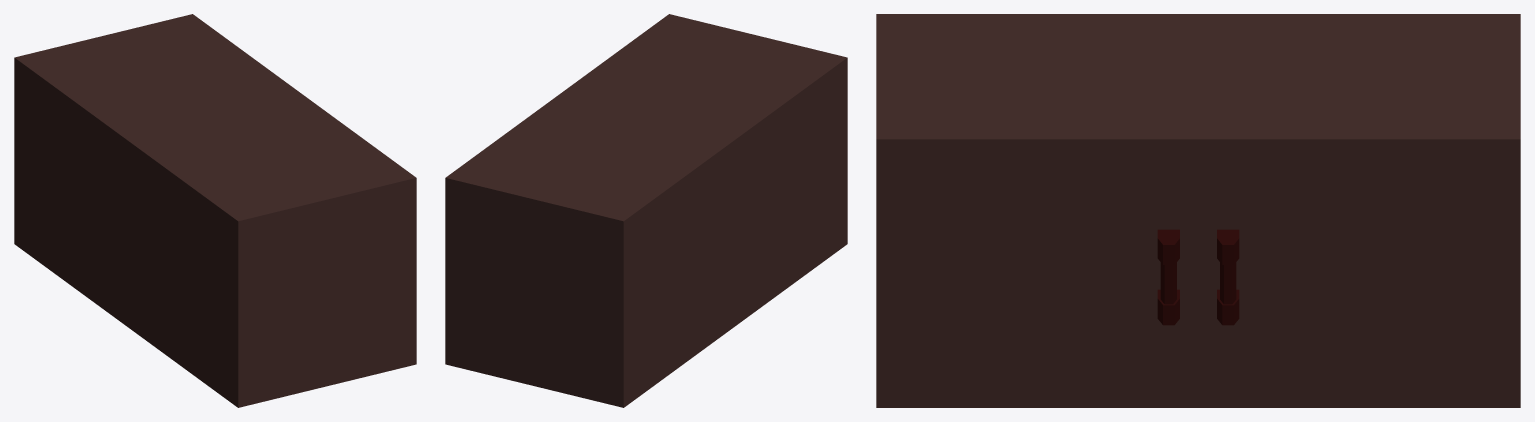
The model's file is KitchenCabinetDouble.fbx.
3 views of the same model, side by side, from view 1: azimuth 30°, elevation 25°; view 2: azimuth 150°, elevation 25°; view 3: azimuth 270°, elevation 25° (orthographic). The views are drawn at different scales.
Visible parts, largest first — view 1: KitchenCabinetDouble; view 2: KitchenCabinetDouble; view 3: KitchenCabinetDouble, Doors.001, Doors.002.
Part boxes in pixels (left/top/right/bottom): KitchenCabinetDouble: left=14, top=14, right=416, bottom=407; KitchenCabinetDouble: left=445, top=14, right=847, bottom=407; KitchenCabinetDouble: left=876, top=14, right=1520, bottom=407; Doors.001: left=882, top=143, right=1192, bottom=403; Doors.002: left=1204, top=143, right=1514, bottom=403.
Bounding box in the file's own units: 674 × 600 × 1304.
